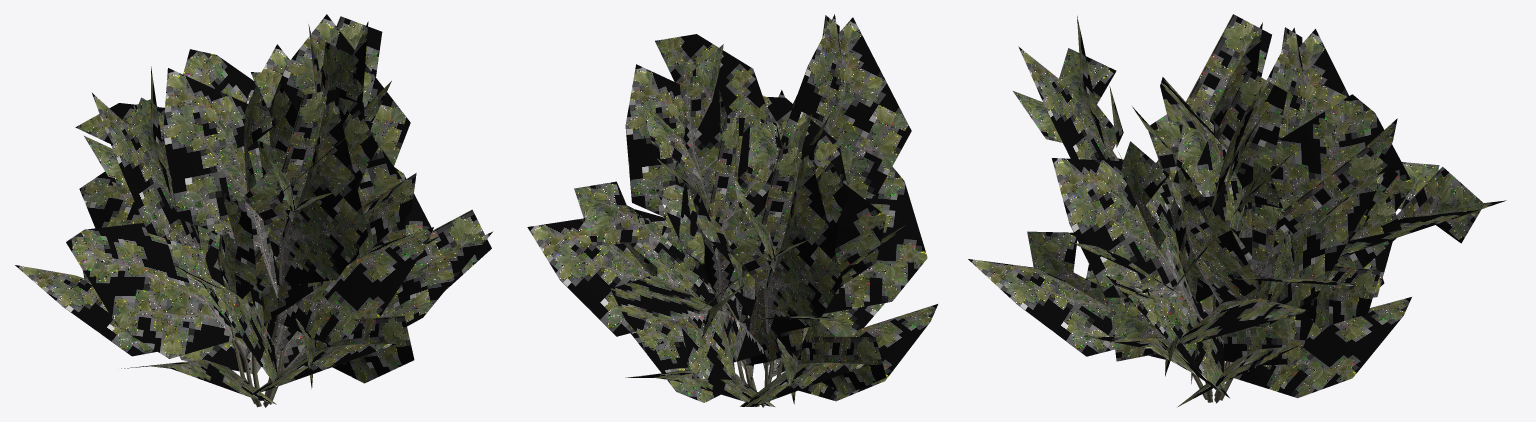
The model's file is bush_spicebush_c.glb.
The picture shows the model from 3 angles, left to right: view 1: azimuth 30°, elevation 25°; view 2: azimuth 150°, elevation 25°; view 3: azimuth 270°, elevation 25°; orthographic projection. The views are drawn at different scales.
Visible parts, largest first — view 1: bush_spicebush_c_LOD0; view 2: bush_spicebush_c_LOD0; view 3: bush_spicebush_c_LOD0.
Part boxes in pixels (x1,y1,x2,y2): bush_spicebush_c_LOD0: (15,14,492,407); bush_spicebush_c_LOD0: (527,14,937,407); bush_spicebush_c_LOD0: (968,14,1506,406).
Size of the model in its own units: 3.64 by 3.2 by 4.31.
Materials: 1 (1 with a texture image).
